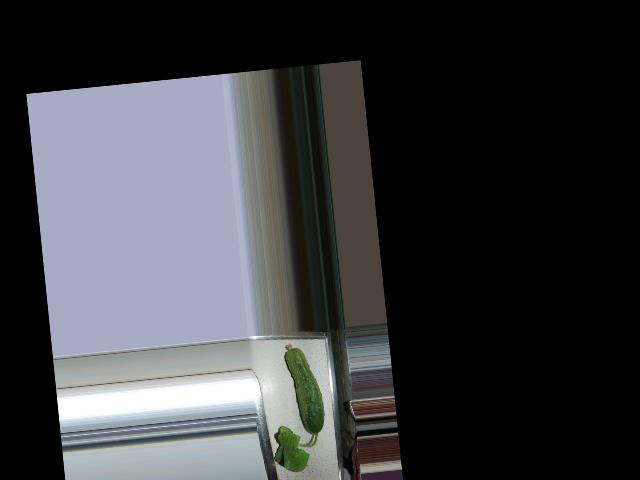cucumber: (283, 341, 326, 437)
